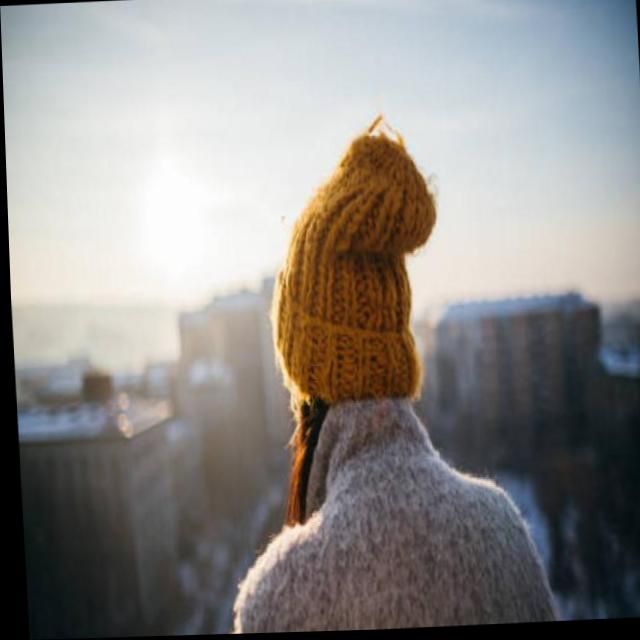no helmet: (241, 134, 443, 456)
